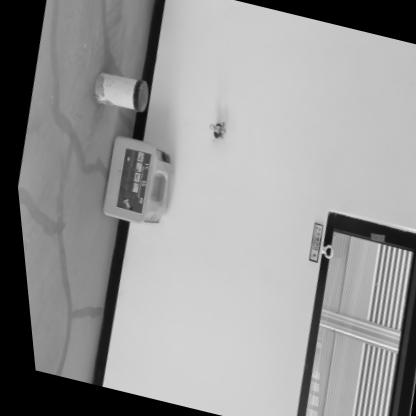DDL: (91, 133, 180, 230)
